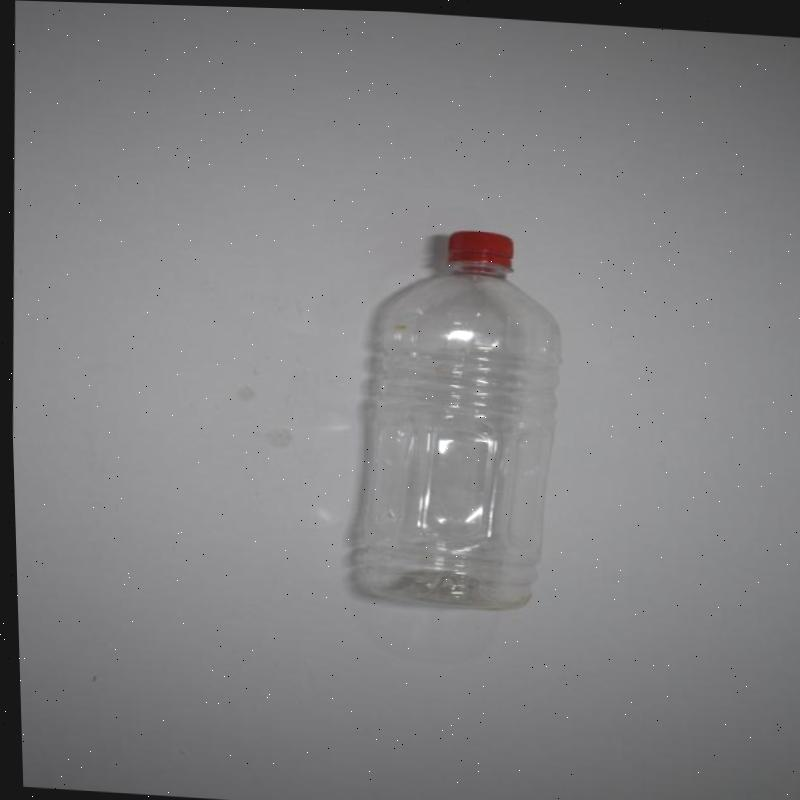botella: (332, 222, 568, 610)
